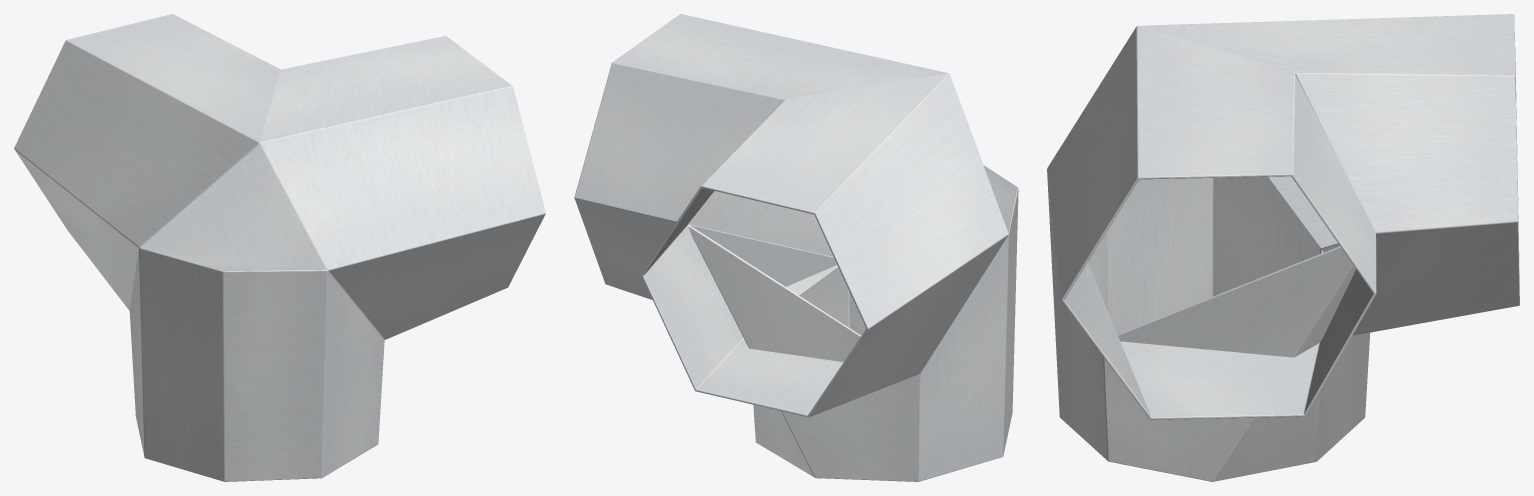
File: 3TConnectorV1.0.glb
The picture shows the model from 3 angles, left to right: view 1: azimuth 30°, elevation 25°; view 2: azimuth 150°, elevation 25°; view 3: azimuth 270°, elevation 25°; orthographic projection. The views are drawn at different scales.
Visible parts, largest first — view 1: 3TConnector; view 2: 3TConnector; view 3: 3TConnector.
Boxes of the visible parts, x1,y1,x2,y2 form: 3TConnector: [14, 14, 545, 481]; 3TConnector: [574, 14, 1018, 481]; 3TConnector: [1047, 14, 1519, 481].
Bounding box in the file's own units: 2.9 × 2.6 × 2.95.
1 material, 1 textured.
